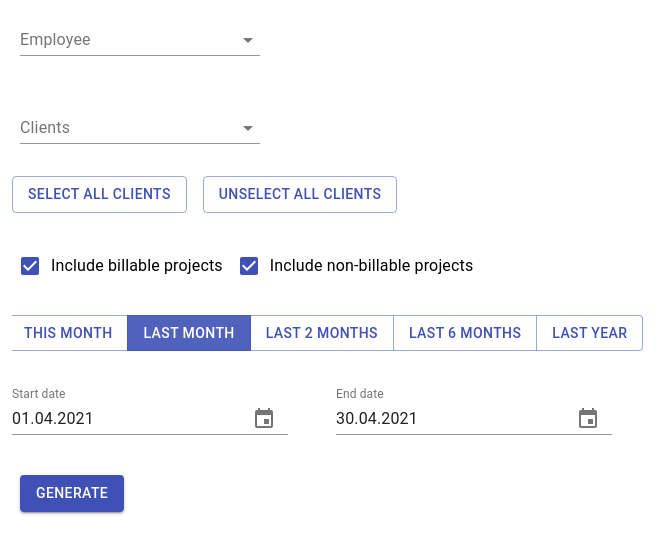
Test: salary report form › selecing clients › should select all clients with "select all clients" button
The width and height of the screenshot is (660, 549).
Check: the text "Generate" is shown, box left=36, top=481, right=108, bottom=506
Step 1. Press the mouse on the button named "Employee" next to "Employee" → (140, 40), box left=20, top=24, right=260, bottom=56
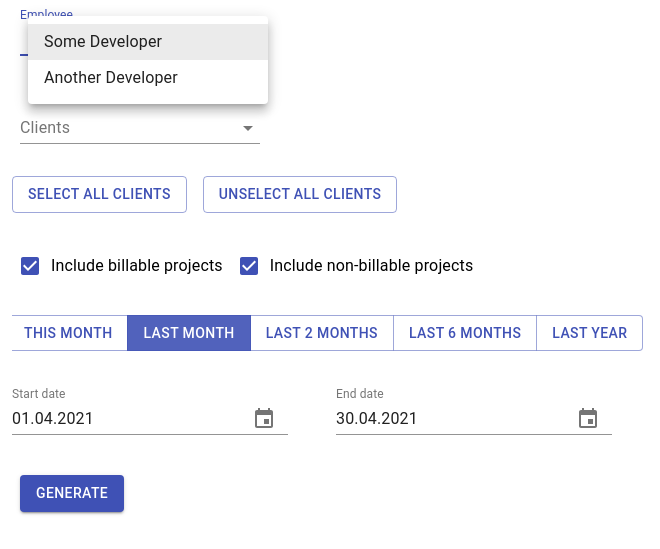
Step 2. Click the option "Some Developer" → (148, 42), box left=28, top=24, right=268, bottom=60
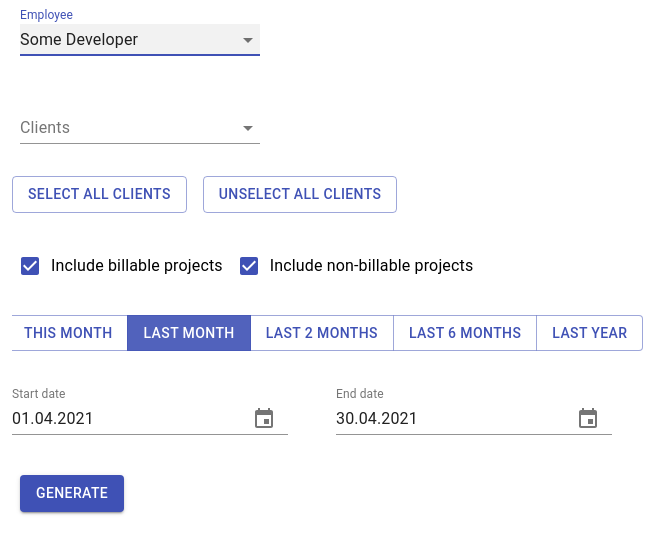
Step 3. Click the button "Select all clients" → (99, 194), box left=12, top=176, right=187, bottom=212
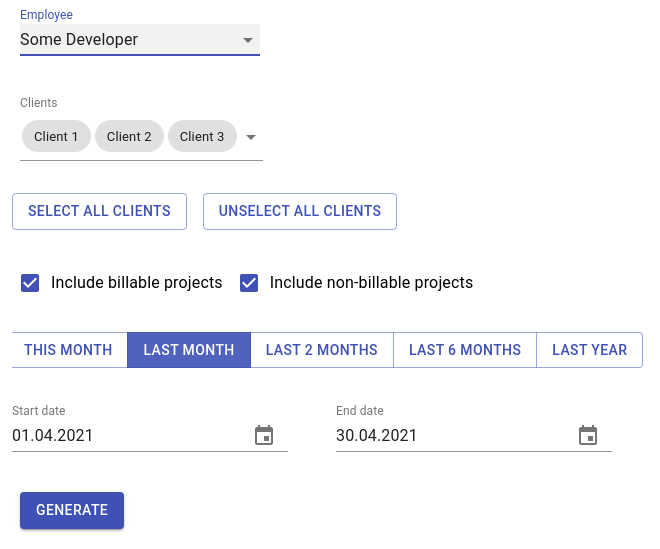
Check: the text "Client 1" is shown, box left=34, top=128, right=79, bottom=144
Check: the text "Client 2" is shown, box left=107, top=128, right=152, bottom=144
Check: the text "Client 3" is shown, box left=180, top=128, right=224, bottom=144
